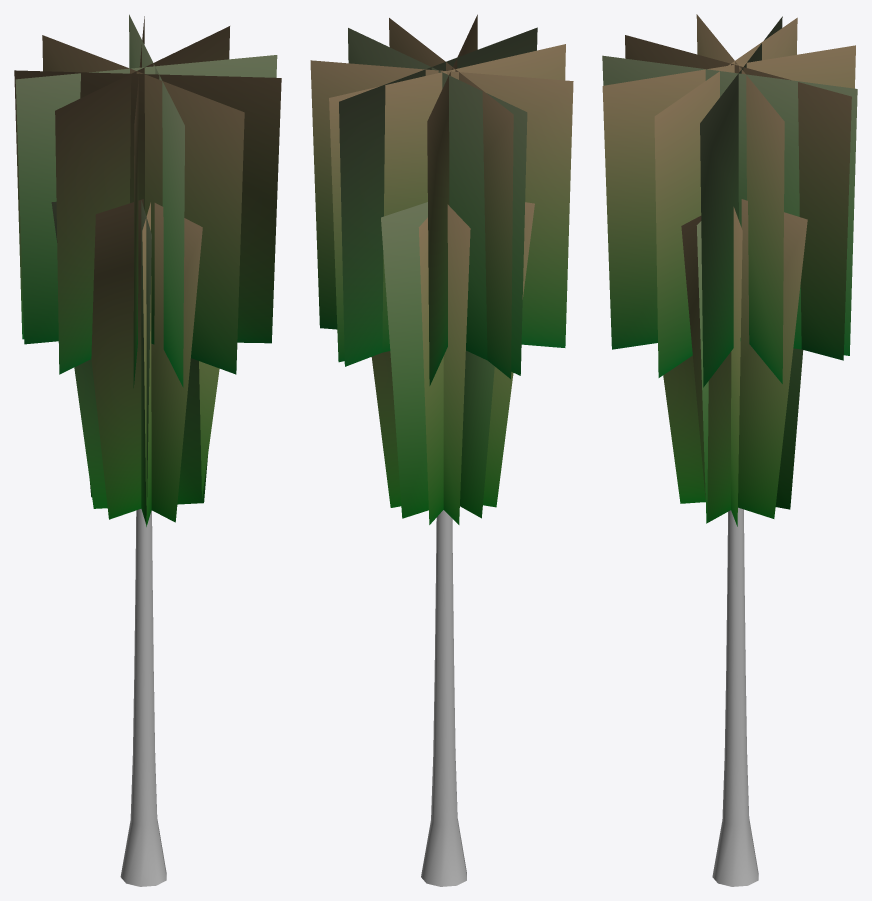
File: S_Palm_2_2.fbx
The picture shows the model from 3 angles, left to right: view 1: azimuth 30°, elevation 25°; view 2: azimuth 150°, elevation 25°; view 3: azimuth 270°, elevation 25°; orthographic projection.
Parts seen in each view (by area): view 1: Atlas_1, Atlas_0; view 2: Atlas_1, Atlas_0; view 3: Atlas_1, Atlas_0.
Boxes of the visible parts, x1,y1,x2,y2 form: Atlas_1: (14, 14, 281, 526); Atlas_0: (120, 509, 166, 886); Atlas_1: (310, 14, 573, 524); Atlas_0: (421, 510, 466, 886); Atlas_1: (602, 14, 857, 526); Atlas_0: (712, 507, 758, 886).
Bounding box in the file's own units: 272 × 938 × 268.
